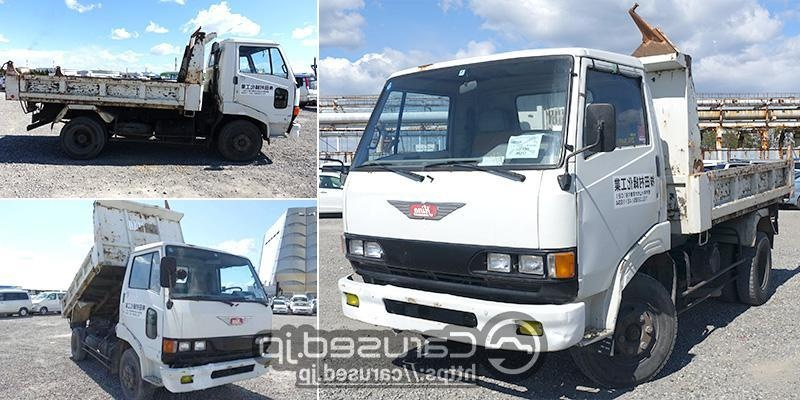truck: (346, 40, 800, 389), (0, 1, 302, 166), (55, 199, 283, 398)
